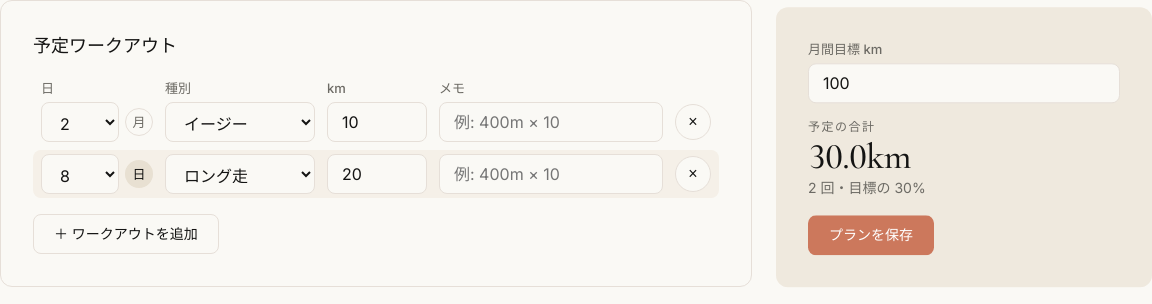
Test case: PlanEditor › shows the planned total against the target while editing
Expected: the text "30.0" is shown, x1=808 y1=135 x2=866 y2=178
Expected: the text "2 回・目標の 30%" is shown, x1=808 y1=180 x2=926 y2=197
Click the button named "1件目を削除" at (693, 122), box x1=675 y1=104 x2=711 y2=140
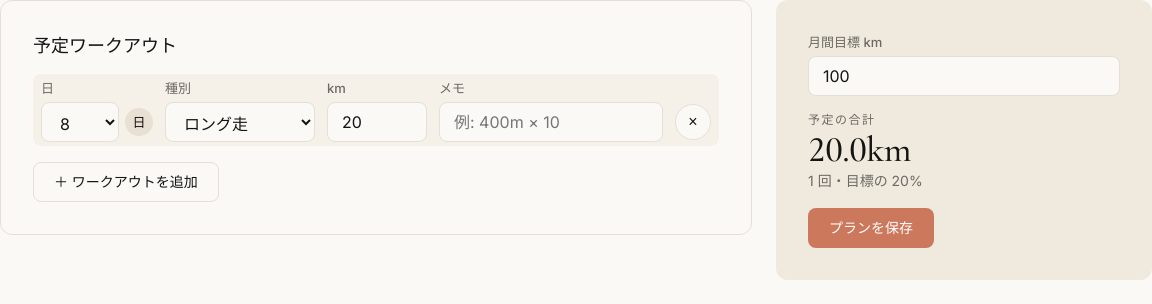
Now the text "20.0" is shown, box x1=808 y1=128 x2=866 y2=171
